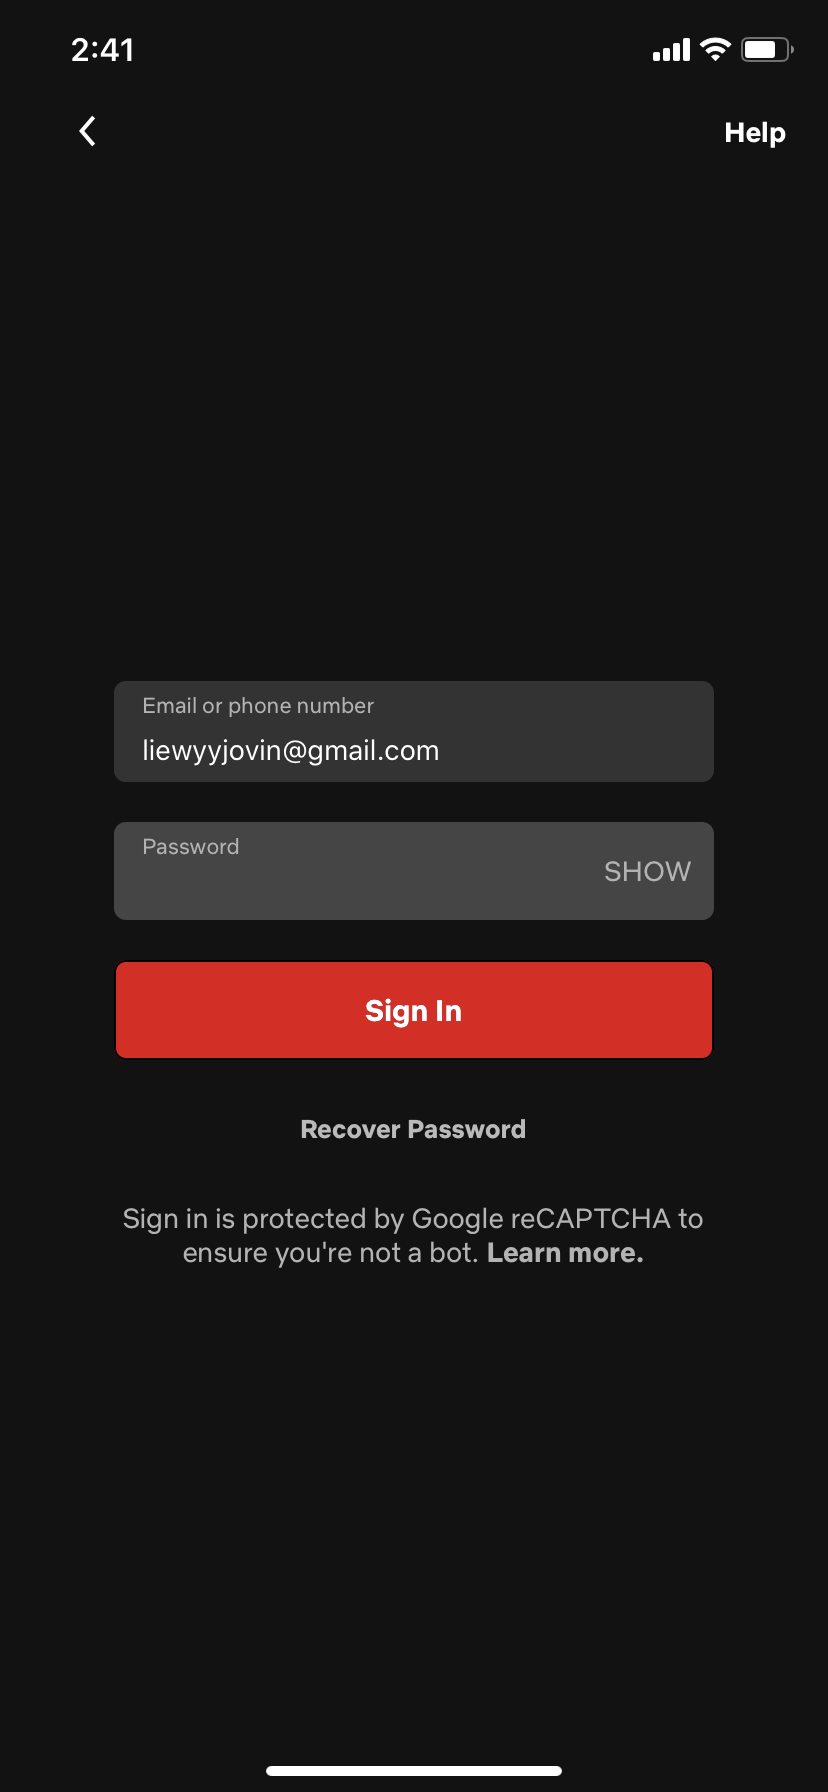Buttons: (99, 949, 723, 1064), (272, 1089, 552, 1163), (699, 85, 807, 173), (49, 83, 129, 173)
Text Fields: (104, 665, 720, 795), (101, 805, 720, 929)
